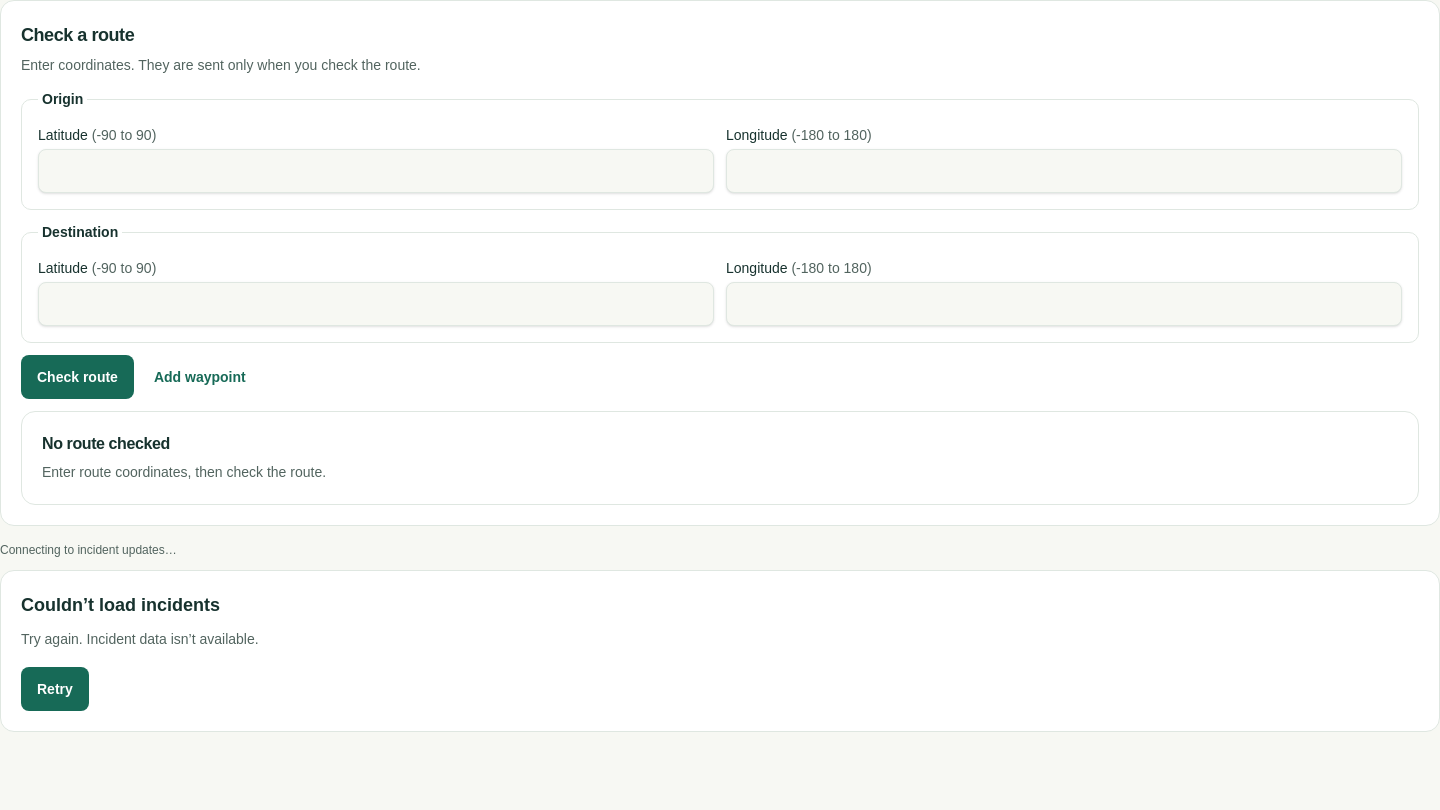
Scenario: IncidentMapExperience › offers retry after an API error
Click the button "Retry" at (55, 689), box [21,667,89,711]
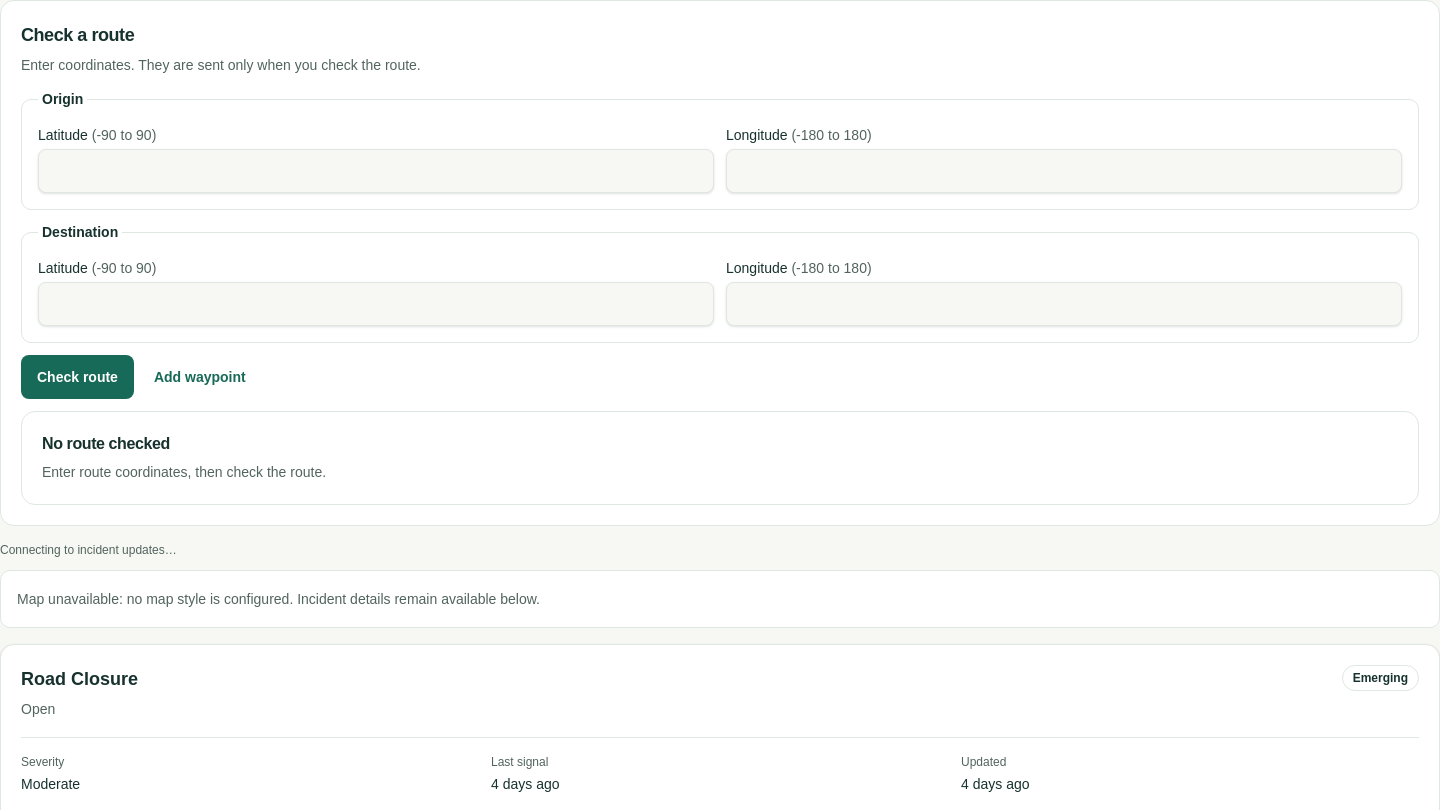
Expected: the heading "Road Closure" is shown, [21,665,138,693]
